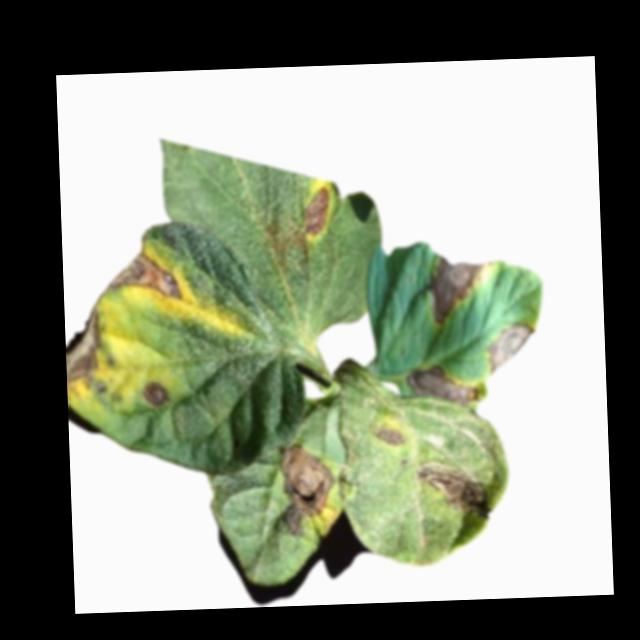Early_blight: (62, 248, 189, 381), (277, 441, 341, 538), (415, 455, 491, 519), (428, 252, 487, 324), (408, 362, 482, 408), (487, 320, 540, 375), (301, 186, 333, 236), (142, 377, 172, 408), (378, 422, 408, 446)
